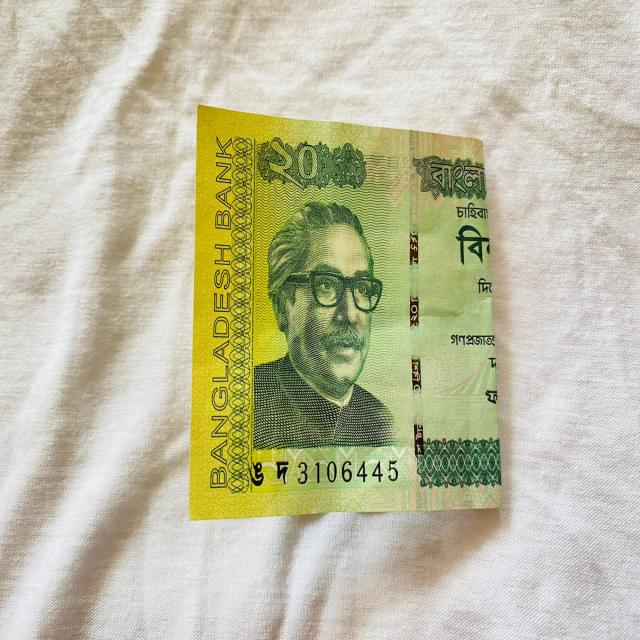Taka: (189, 94, 507, 523)
